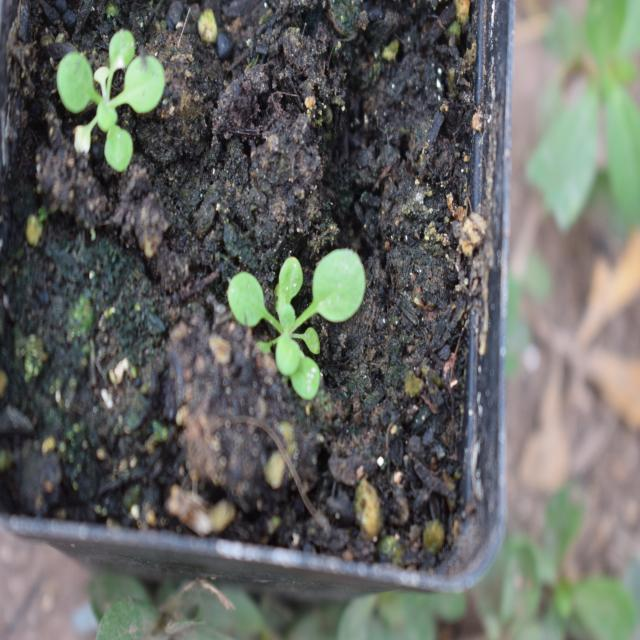Shepherd_Purse: (224, 237, 370, 389), (69, 54, 192, 167)
